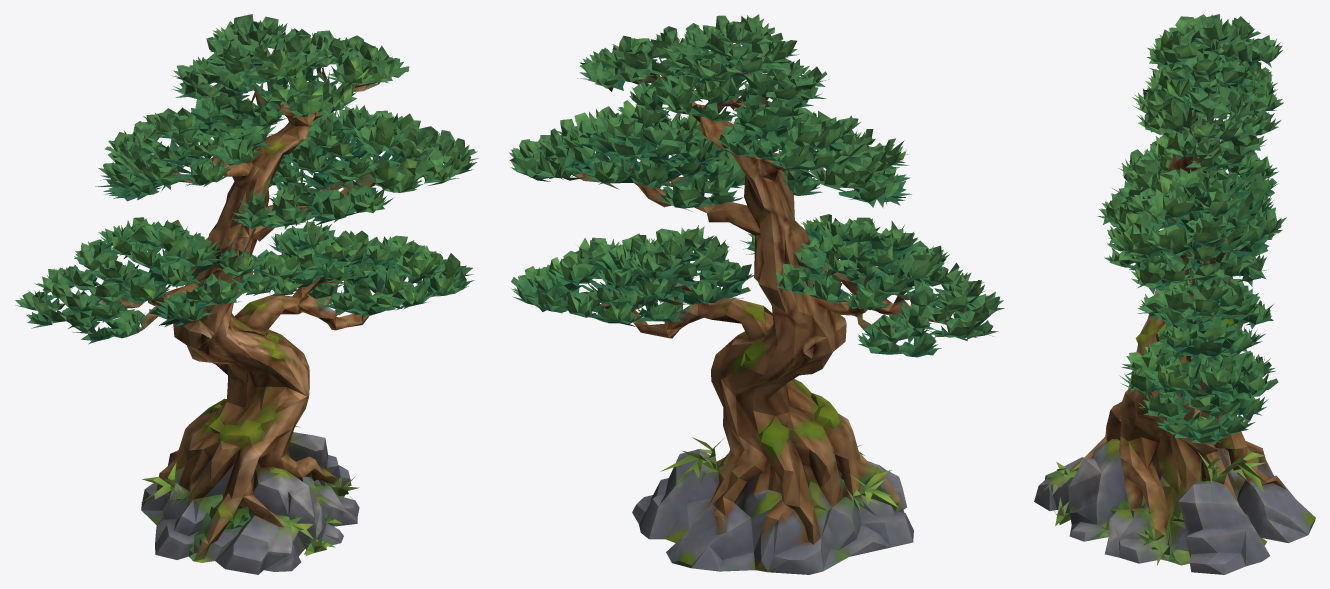
File: pine.glb
3 views of the same model, side by side, from view 1: azimuth 30°, elevation 25°; view 2: azimuth 150°, elevation 25°; view 3: azimuth 270°, elevation 25° (orthographic). The views are drawn at different scales.
Parts seen in each view (by area): view 1: output_unwrapped; view 2: output_unwrapped; view 3: output_unwrapped.
Part boxes in pixels (left/top/right/bottom): output_unwrapped: left=15, top=14, right=478, bottom=574; output_unwrapped: left=509, top=14, right=1004, bottom=574; output_unwrapped: left=1034, top=14, right=1315, bottom=574.
Bounding box in the file's own units: 1.89 × 1.9 × 0.9513.
Materials: 1 (1 with a texture image).
